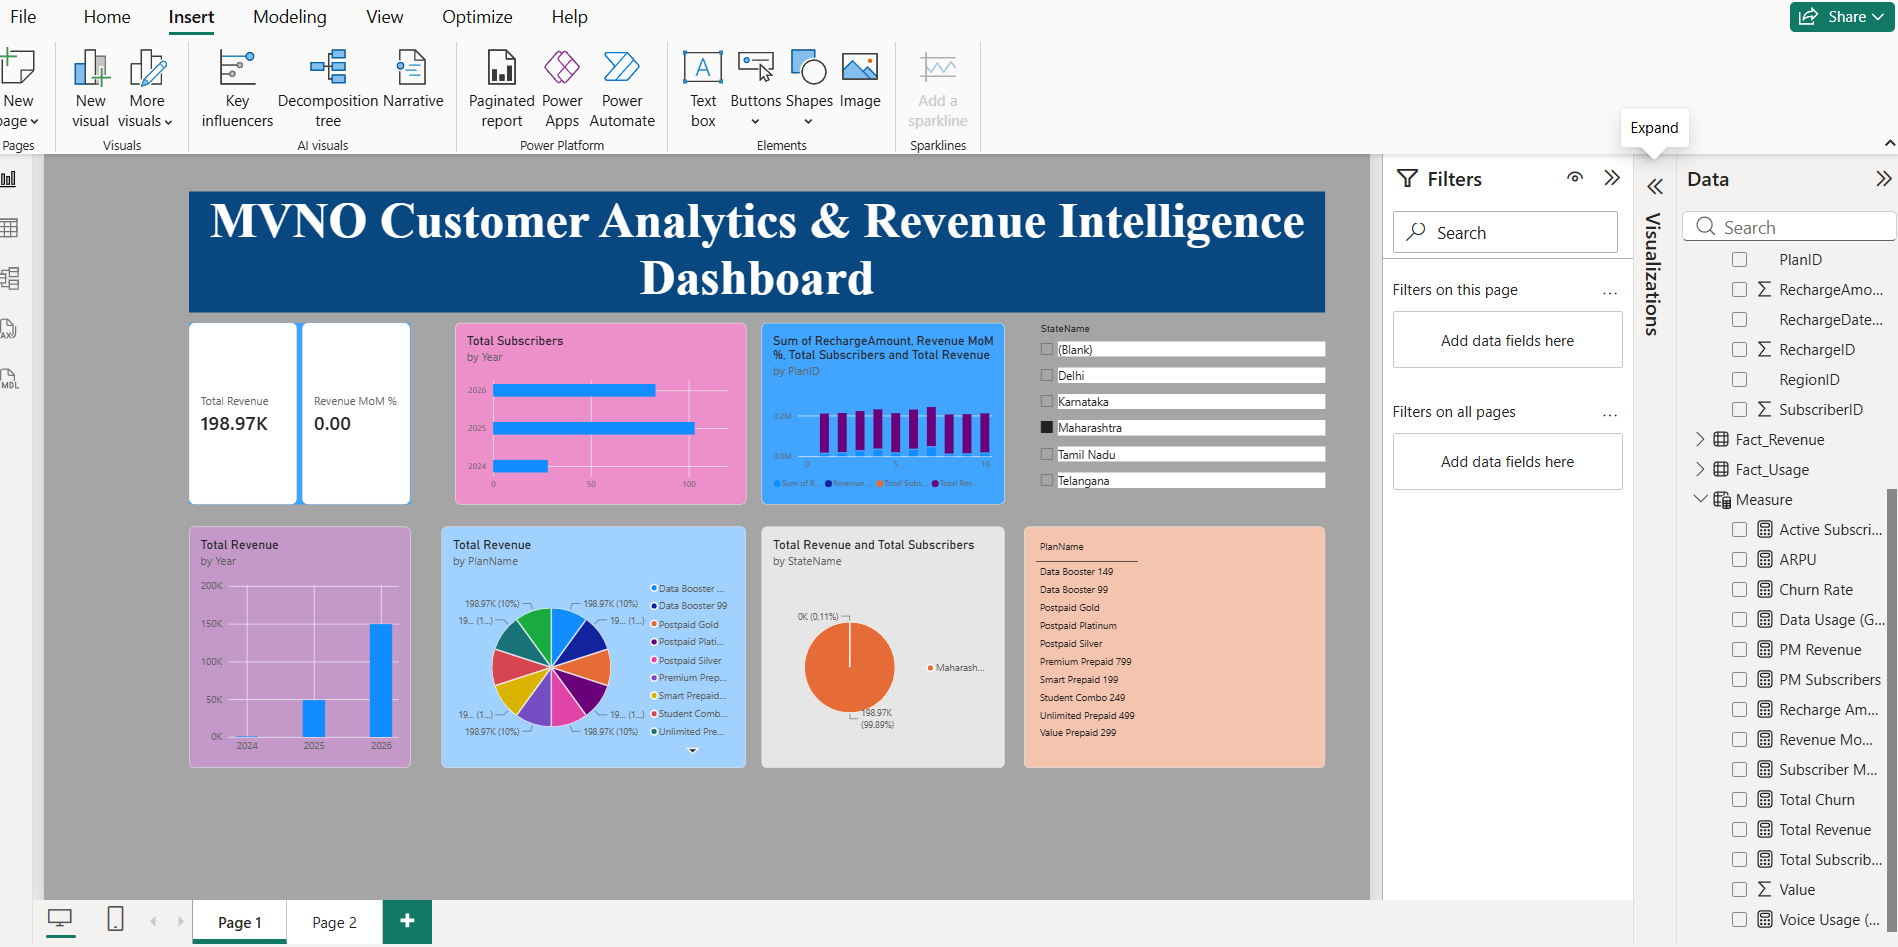

This screenshot's page, from the dashboard's own definition file:
{"tool":"powerbi","page":{"name":"Page 1","canvas":[1920,1080],"ordinal":0},"visuals":[{"type":"cardVisual","fields":{"Data":["Measure.Total Revenue","Measure.Revenue MoM %"]},"box":[209.9,244.9,321.1,263.5],"z":0},{"type":"lineStackedColumnComboChart","fields":{"Category":["Dim_Date.FullDate.Variation.Date Hierarchy.Year","Dim_Date.FullDate.Variation.Date Hierarchy.Quarter","Dim_Date.FullDate.Variation.Date Hierarchy.Month","Dim_Date.FullDate.Variation.Date Hierarchy.Day"],"Y":["Measure.Total Revenue"]},"box":[209.9,539.3,321.1,349.9],"z":1000},{"type":"clusteredBarChart","fields":{"Category":["Dim_Date.FullDate.Variation.Date Hierarchy.Year","Dim_Date.FullDate.Variation.Date Hierarchy.Quarter","Dim_Date.FullDate.Variation.Date Hierarchy.Month","Dim_Date.FullDate.Variation.Date Hierarchy.Day"],"Y":["Measure.Total Subscribers"]},"box":[594.9,244.9,422,263.5],"z":2000},{"type":"pieChart","fields":{"Category":["Dim_Plan.PlanName"],"Y":["Measure.Total Revenue"]},"box":[576.3,539.3,440.5,349.9],"z":3000},{"type":"columnChart","fields":{"Category":["Fact_Recharge.PlanID"],"Y":["Sum(Fact_Recharge.RechargeAmount)","Measure.Revenue MoM %","Measure.Total Subscribers","Measure.Total Revenue"]},"box":[1039.5,244.9,352,263.5],"z":4000},{"type":"pieChart","fields":{"Category":["Dim_Region.StateName"],"Y":["Measure.Total Revenue","Measure.Total Subscribers"]},"box":[1039.5,539.3,352,349.9],"z":5000},{"type":"tableEx","fields":{"Values":["Dim_Plan.PlanName"]},"box":[1418.2,539.3,436.4,349.9],"z":6000},{"type":"slicer","fields":{"Values":["Dim_Region.StateName"]},"box":[1434.7,244.9,419.9,263.5],"z":7000},{"type":"textbox","box":[209.9,53.5,1644.6,175],"z":8000}]}

Visuals, with their boxes on the page's 1920x1080 design canvas (x1, y1, x2, y2). These are canvas units, not pixel positions in the 1898x947 screenshot, which may show the page scaled, cropped or inside an application window:
cardVisual - Measure.Total Revenue x Measure.Revenue MoM %: [x1=210, y1=245, x2=531, y2=508]
lineStackedColumnComboChart - Dim_Date.FullDate.Variation.Date Hierarchy.Year x Dim_Date.FullDate.Variation.Date Hierarchy.Quarter: [x1=210, y1=539, x2=531, y2=889]
clusteredBarChart - Dim_Date.FullDate.Variation.Date Hierarchy.Year x Dim_Date.FullDate.Variation.Date Hierarchy.Quarter: [x1=595, y1=245, x2=1017, y2=508]
pieChart - Dim_Plan.PlanName x Measure.Total Revenue: [x1=576, y1=539, x2=1017, y2=889]
columnChart - Fact_Recharge.PlanID x Sum(Fact_Recharge.RechargeAmount): [x1=1040, y1=245, x2=1392, y2=508]
pieChart - Dim_Region.StateName x Measure.Total Revenue: [x1=1040, y1=539, x2=1392, y2=889]
tableEx - Dim_Plan.PlanName: [x1=1418, y1=539, x2=1855, y2=889]
slicer - Dim_Region.StateName: [x1=1435, y1=245, x2=1855, y2=508]
textbox: [x1=210, y1=54, x2=1854, y2=228]
